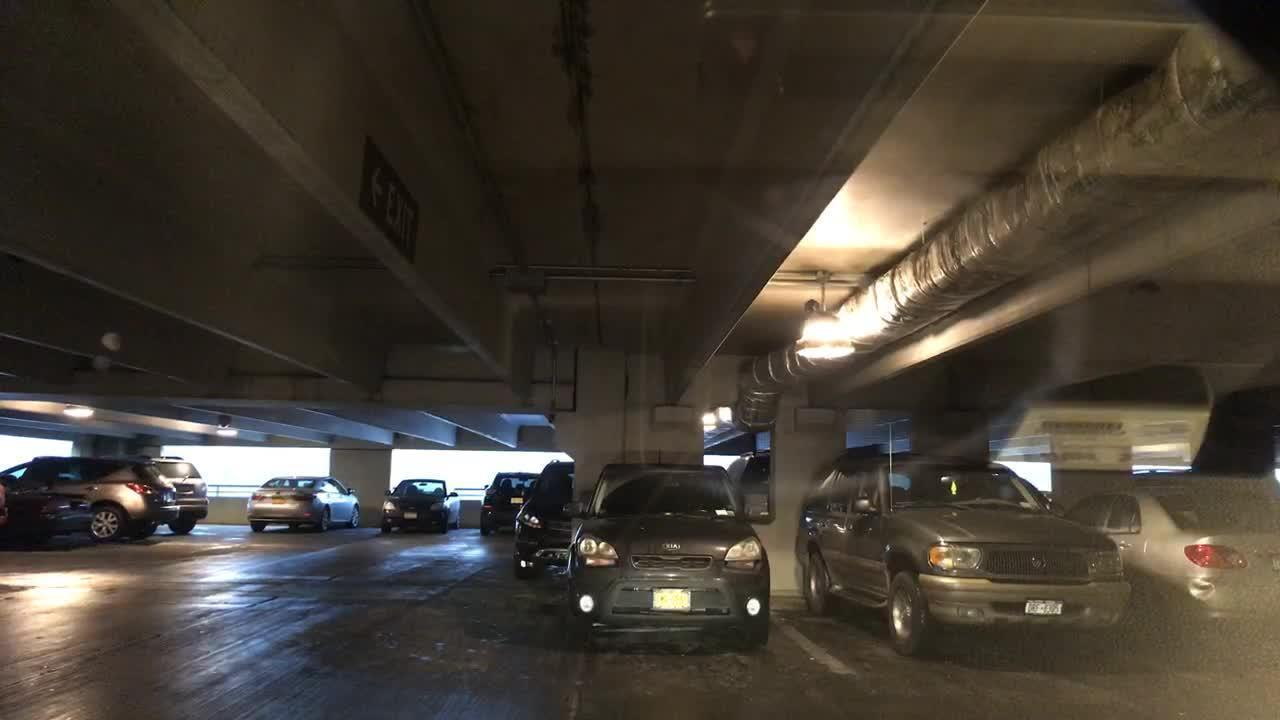Mercury: (1026, 551, 1050, 574)
kia: (659, 538, 687, 556)
